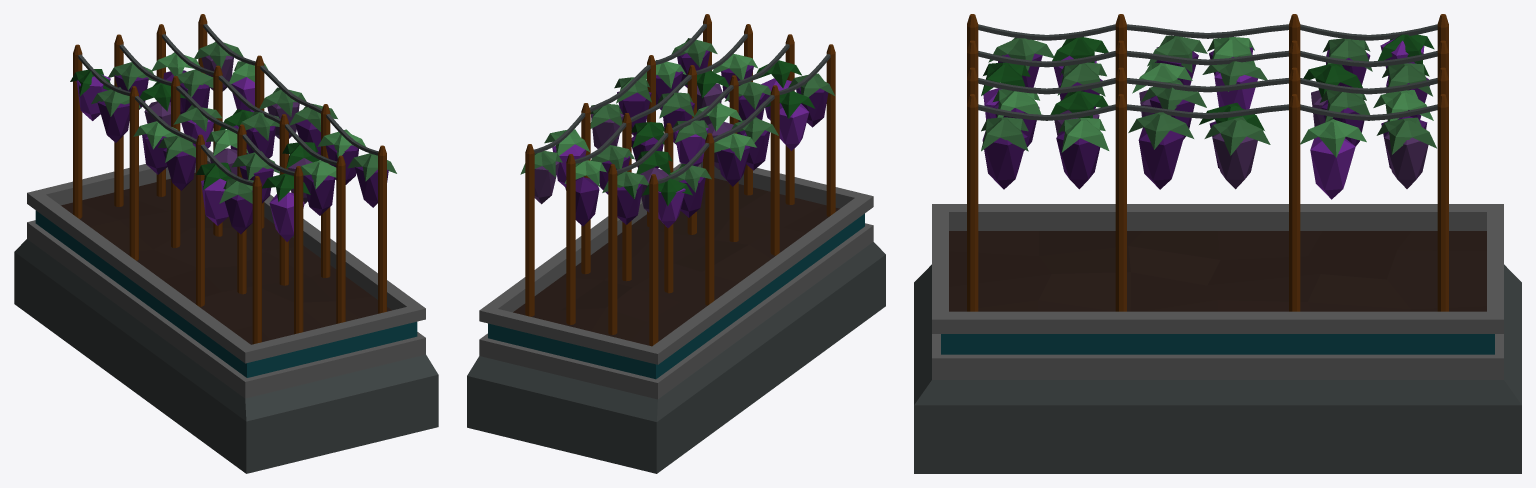
The model's file is grapes.fbx.
3 views of the same model, side by side, from view 1: azimuth 30°, elevation 25°; view 2: azimuth 150°, elevation 25°; view 3: azimuth 270°, elevation 25° (orthographic). The views are drawn at different scales.
Parts seen in each view (by area): view 1: Cube.005; view 2: Cube.005; view 3: Cube.005.
Boxes of the visible parts, bbox=[...] form: Cube.005: bbox=[14, 14, 438, 473]; Cube.005: bbox=[467, 14, 885, 473]; Cube.005: bbox=[914, 14, 1521, 473].
Bounding box in the file's own units: 94.72 × 128 × 198.
